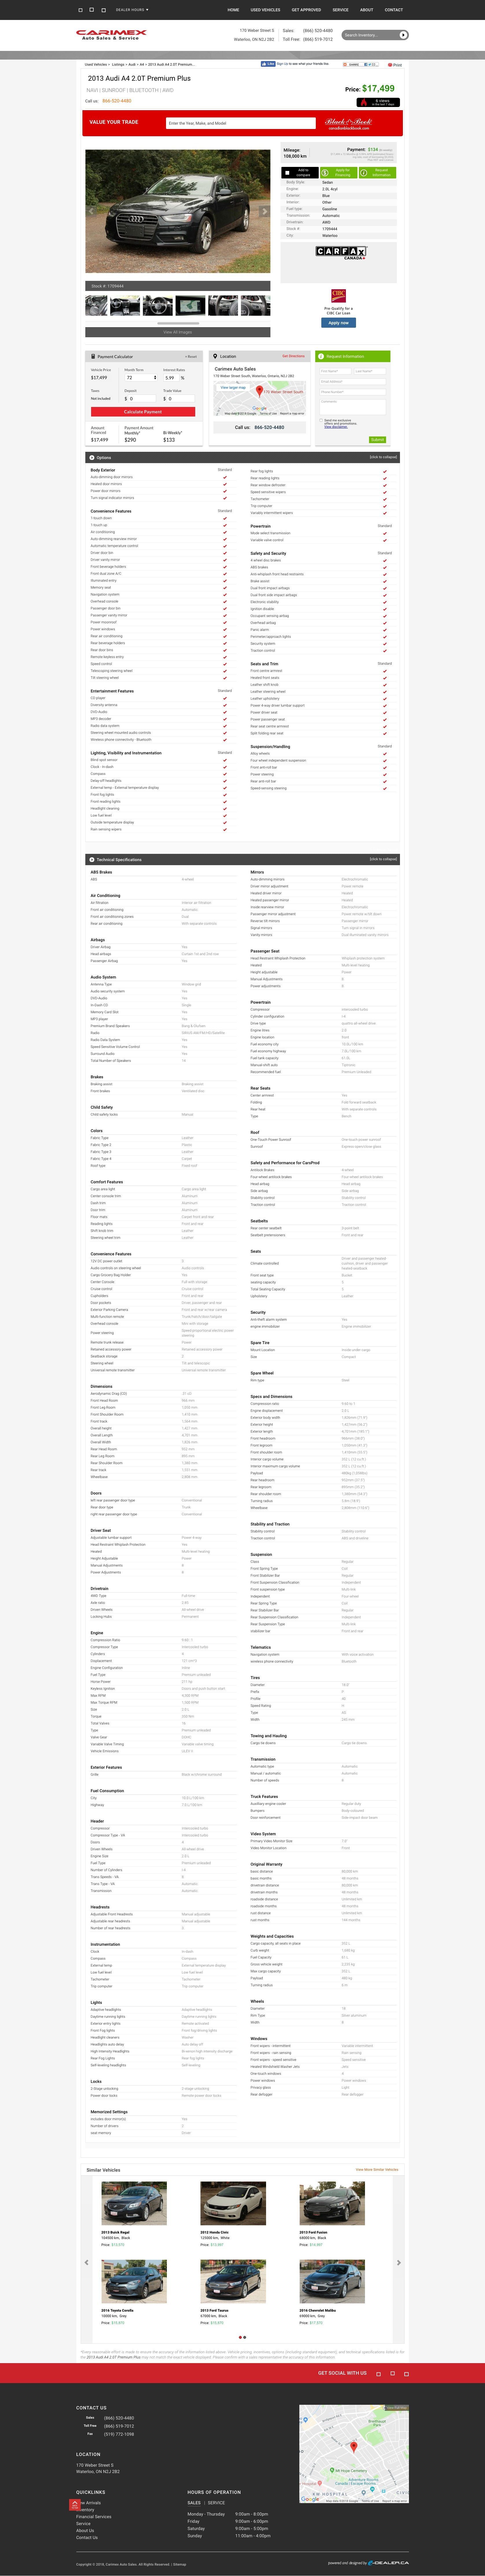car: (258, 205, 271, 218)
